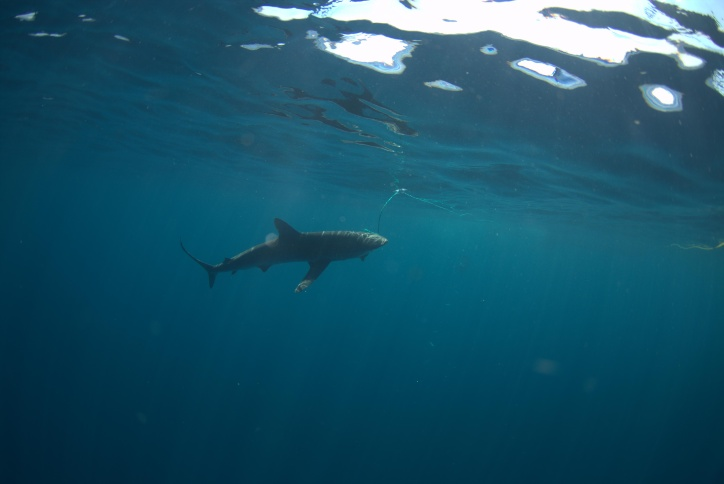Sedoso: (172, 213, 398, 296)
